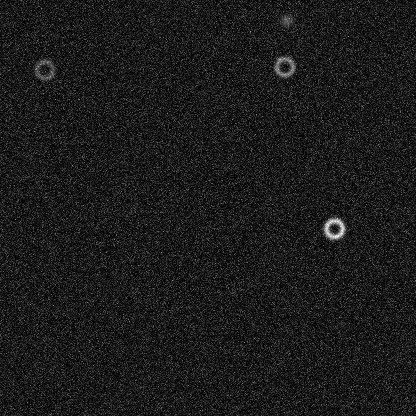Ring: (322, 216, 346, 240), (32, 57, 56, 81), (272, 54, 296, 78)
Spot: (278, 12, 294, 28)
